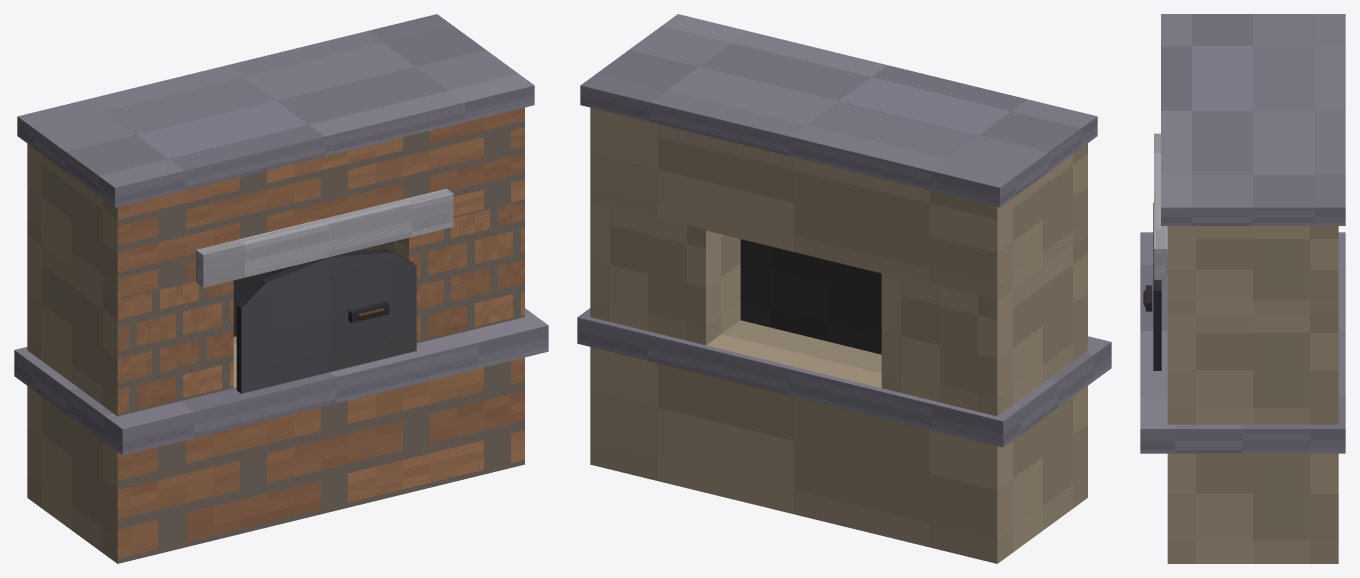
The model's file is bread-oven-door.glb.
The picture shows the model from 3 angles, left to right: view 1: azimuth 30°, elevation 25°; view 2: azimuth 150°, elevation 25°; view 3: azimuth 270°, elevation 25°; orthographic projection. The views are drawn at different scales.
Visible parts, largest first — view 1: oven, door.001; view 2: oven; view 3: oven, door.001.
Part boxes in pixels (box(x1,y1,x2,y2)): oven: box(14, 14, 548, 563); door.001: box(236, 249, 416, 393); oven: box(577, 14, 1111, 563); oven: box(1140, 14, 1345, 563); door.001: box(1143, 202, 1161, 370).
Bounding box in the file's own units: 1.36 × 1.16 × 0.6.
Materials: 1 (1 with a texture image).
